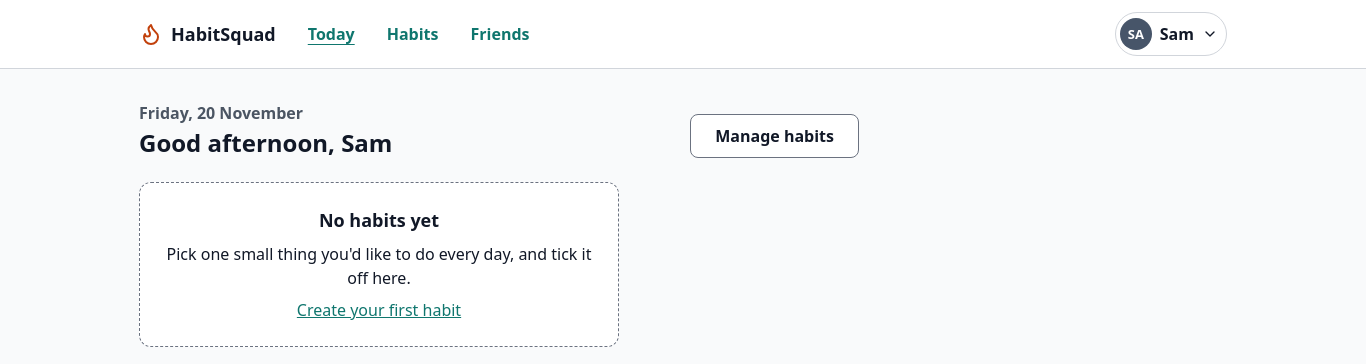
Scenario: AccountMenu (header) › opens to show name, email, "Your profile" and "Log out"
Click the button with aria-label "Account menu for" at (1171, 34), box [1115, 12, 1227, 56]
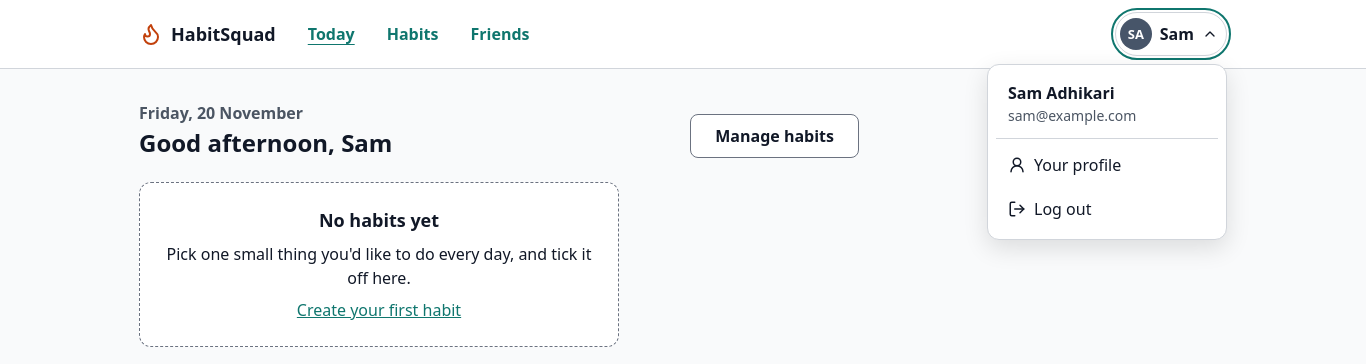
Expected: the button with aria-label "Account menu for" is expanded, [1115, 12, 1227, 56]
Expected: the text "Sam Adhikari" is shown, [1008, 82, 1115, 104]
Expected: the text "sam@example.com" is shown, [1008, 106, 1136, 125]
